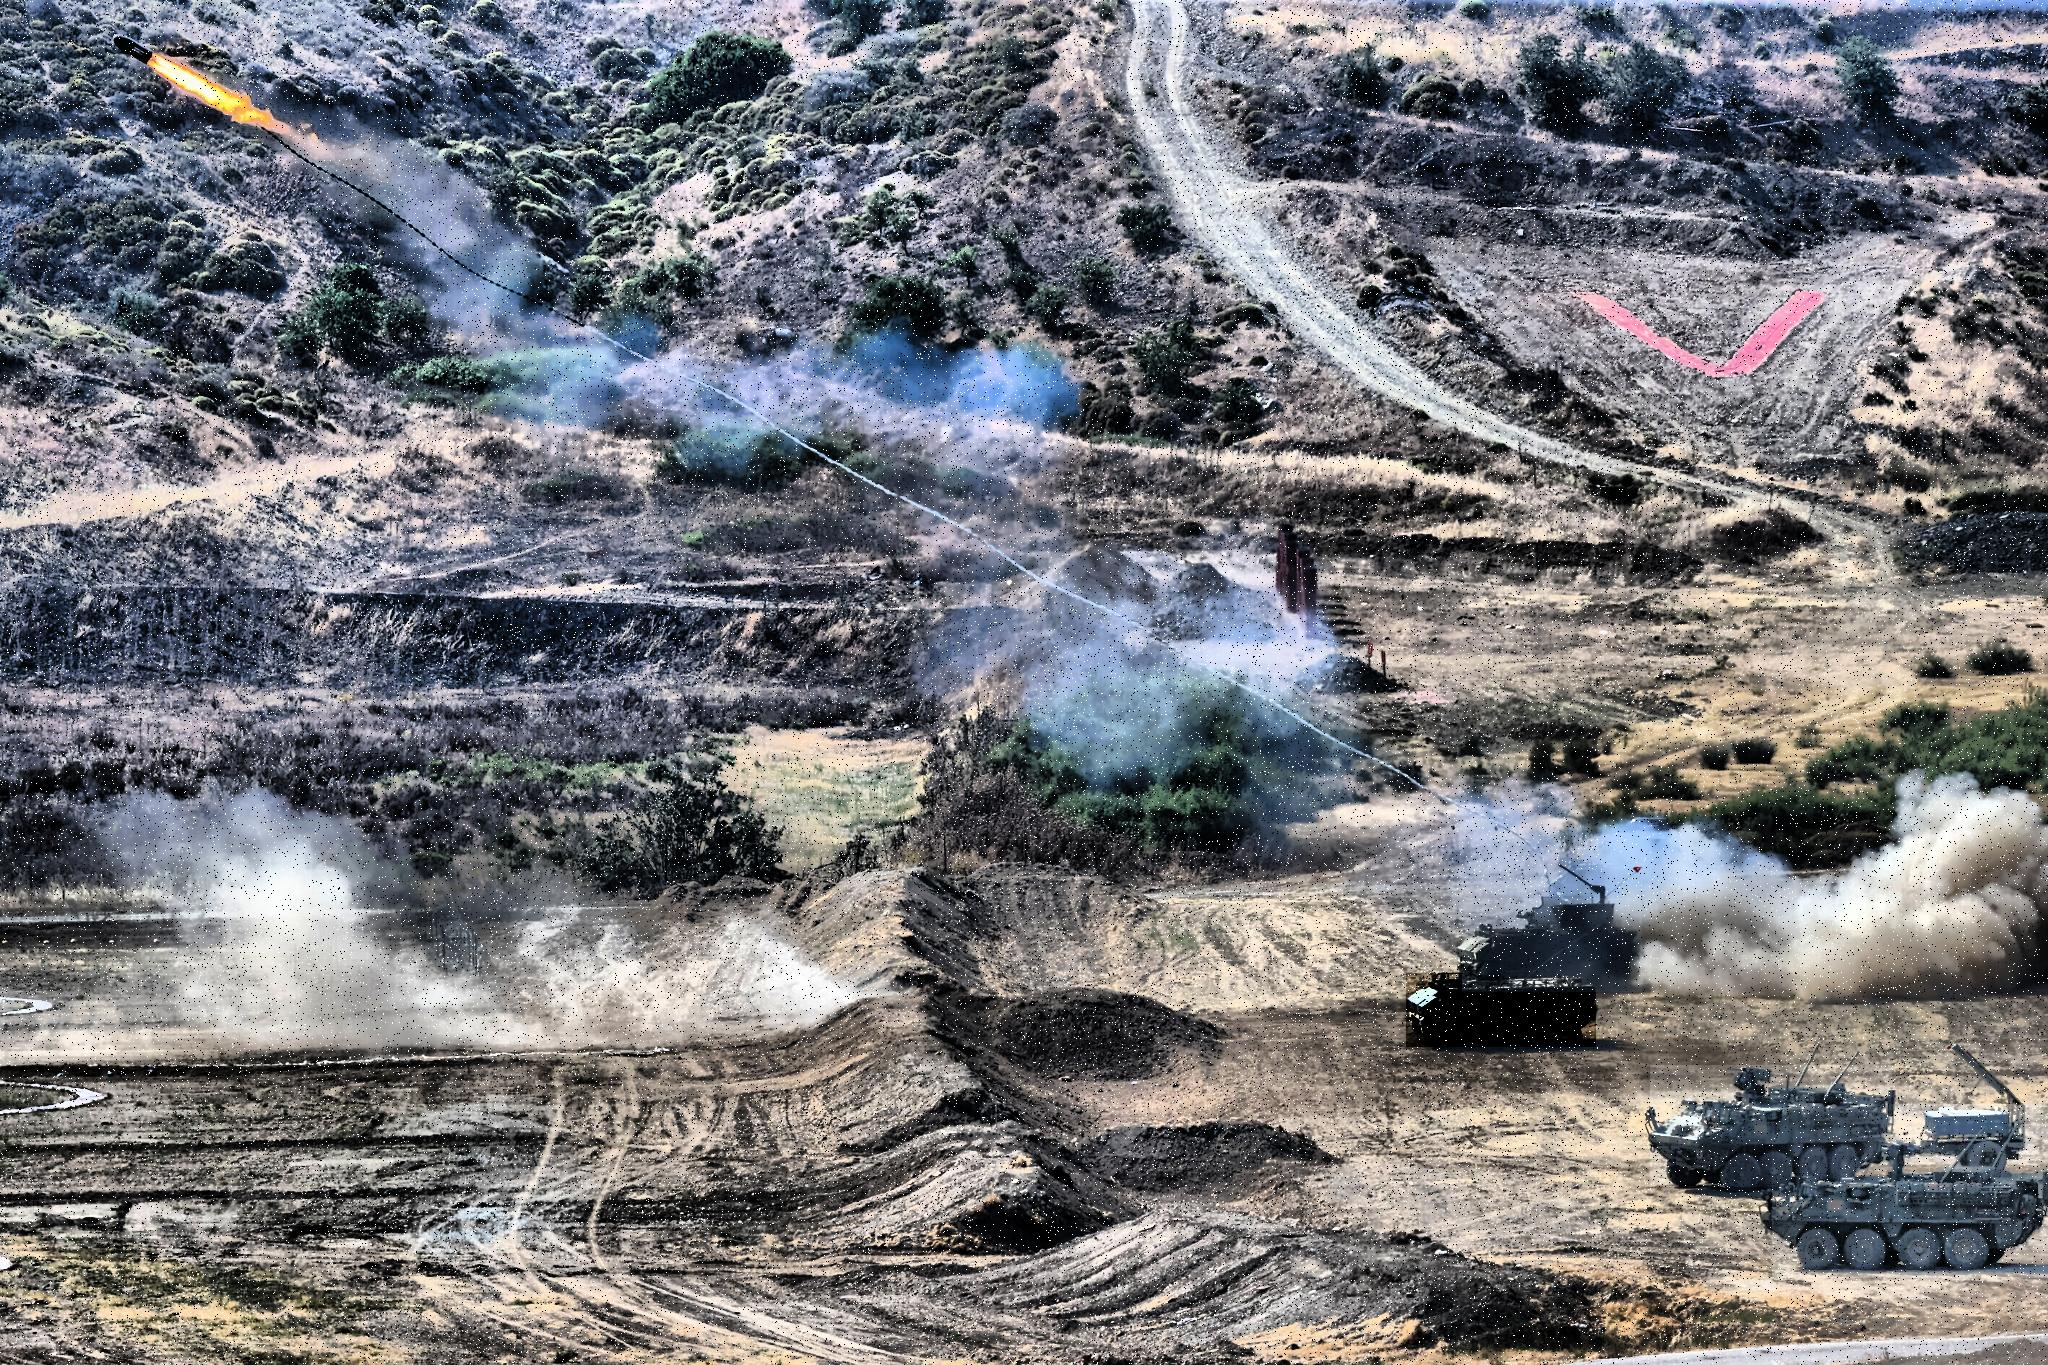military-vehicle: (1772, 1104, 2048, 1278), (1649, 1065, 1893, 1187), (1462, 899, 1641, 992), (1405, 973, 1596, 1047)
